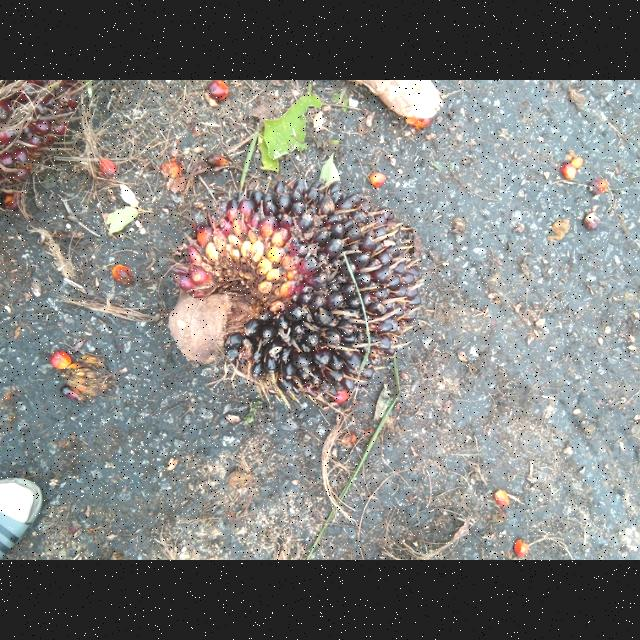Unripe: (174, 175, 416, 408)
